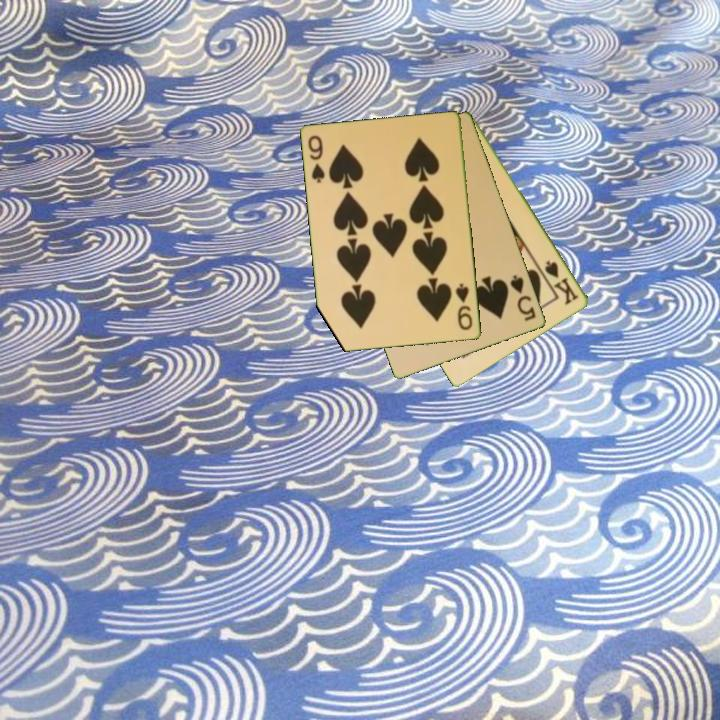5s: (507, 271, 539, 324)
9s: (452, 280, 476, 333), (305, 132, 328, 186)
Ks: (541, 257, 582, 308)
